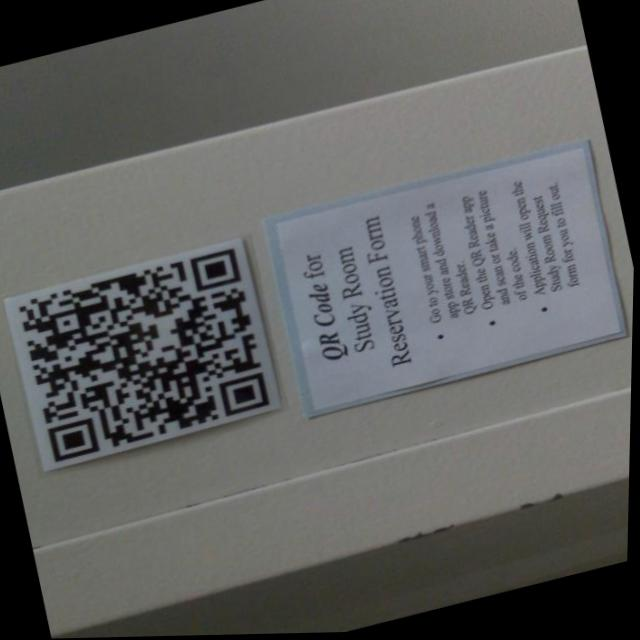qrcode: (16, 248, 275, 464)
